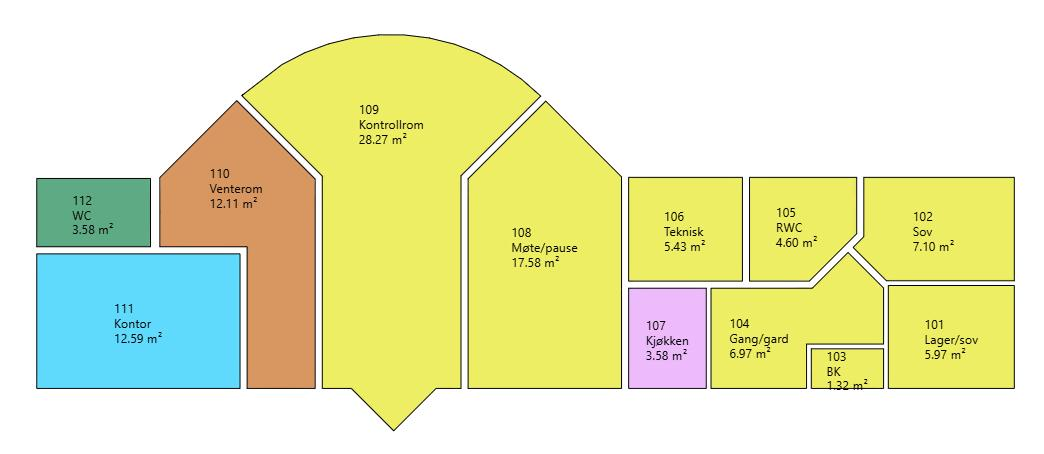room: (240, 33, 544, 432), (158, 98, 317, 390), (466, 100, 623, 390), (35, 253, 241, 390), (709, 251, 884, 390), (852, 176, 1015, 281), (888, 285, 1015, 389), (628, 176, 743, 282), (749, 176, 858, 282), (628, 287, 708, 390), (36, 178, 151, 247), (811, 347, 884, 389)
